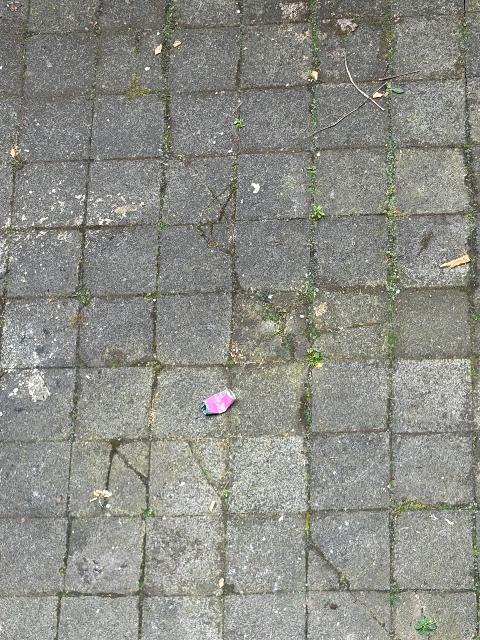can: (200, 389, 235, 415)
